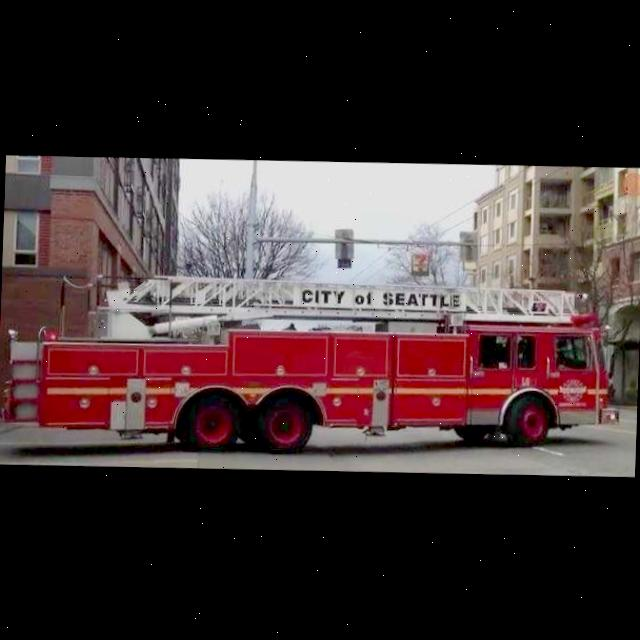emergency: (1, 264, 624, 465)
